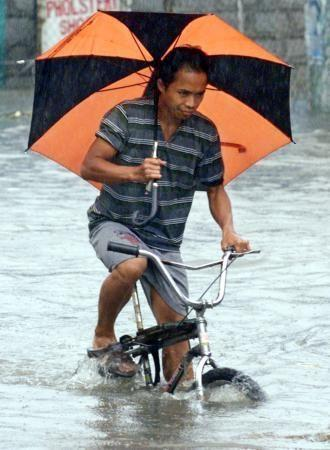bicycle: (107, 243, 271, 413)
